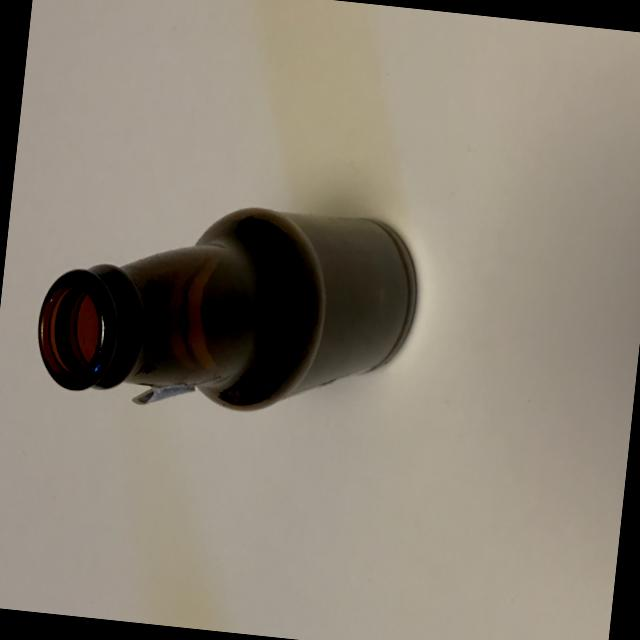Glass: (27, 174, 435, 443)
